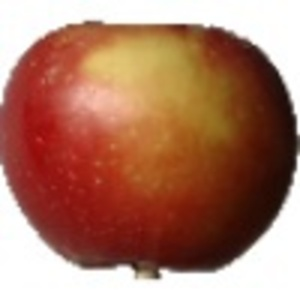maçã braeburn: (1, 17, 300, 270)
